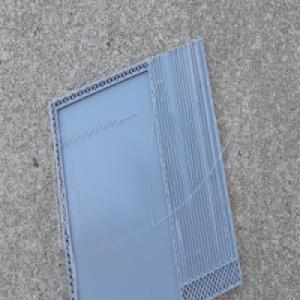PlasticPart: (48, 34, 244, 300)
